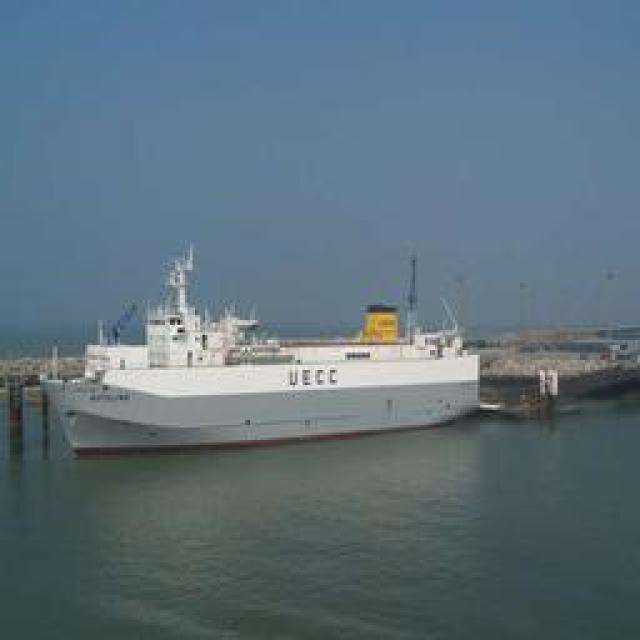CIV_Ship: (45, 251, 478, 459)
